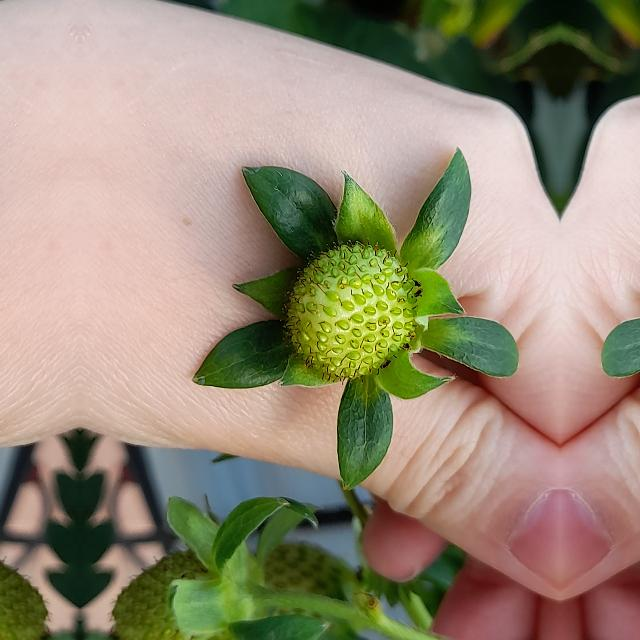Health_25: (280, 237, 418, 385)
